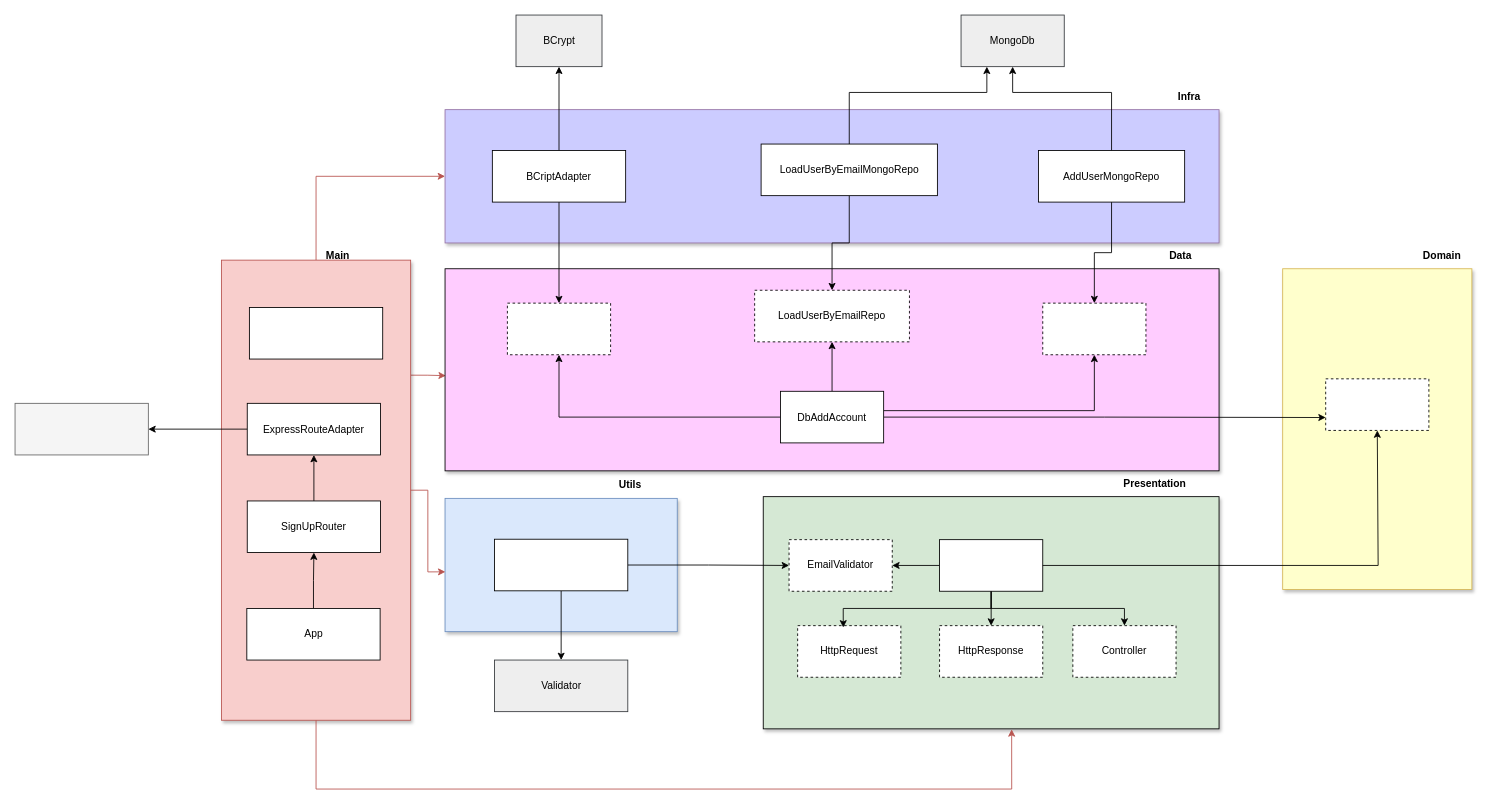
Some shapes in this 1492 by 811 pixel diagram are drawn without their labels. Here are the shapes that lost their labels. From the top down, the centre of each, then its label:
At [316,333]: "SignUpCompose".
At [559,328]: "Encrypter".
At [1094,328]: "AddUserRepo".
At [1377,404]: "AddAccount".
At [81,428]: "Express".
At [561,564]: "EmailValidatorAdapter".
At [991,565]: "SignUpController".
